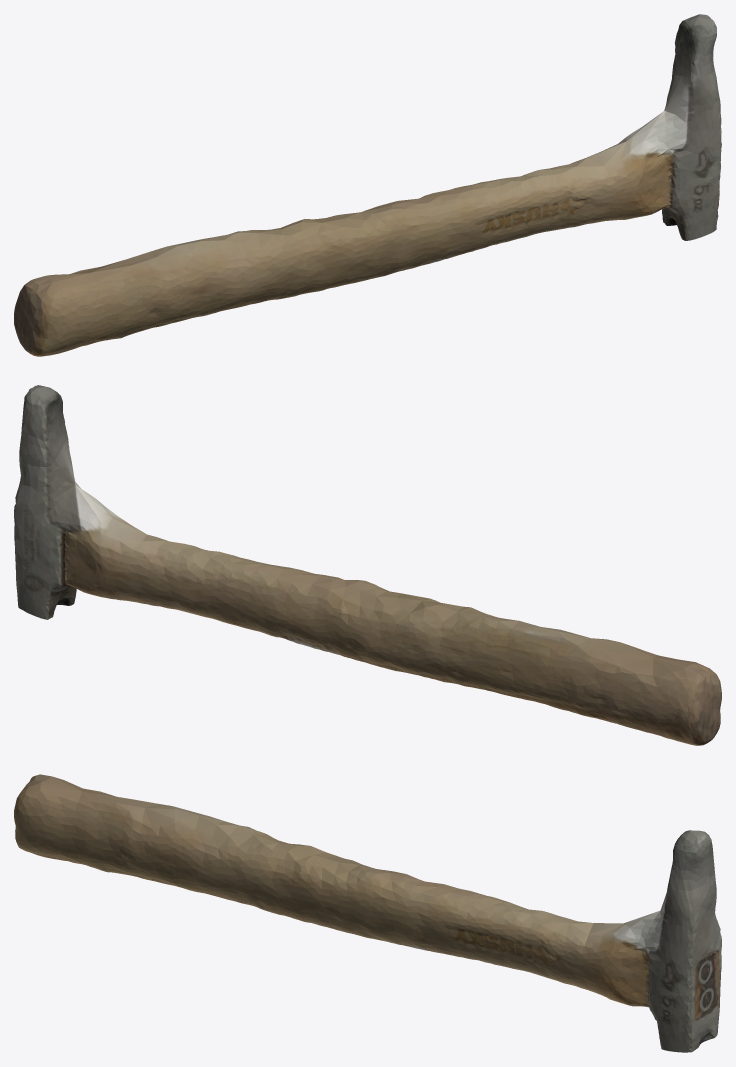
File: hammer_2.obj
3 renders of one model, top to bottom at view 1: azimuth 30°, elevation 25°; view 2: azimuth 150°, elevation 25°; view 3: azimuth 330°, elevation 25°, orthographic.
Size of the model in its own units: 0.2702 by 0.0806 by 0.026.
1 material, 1 textured.
